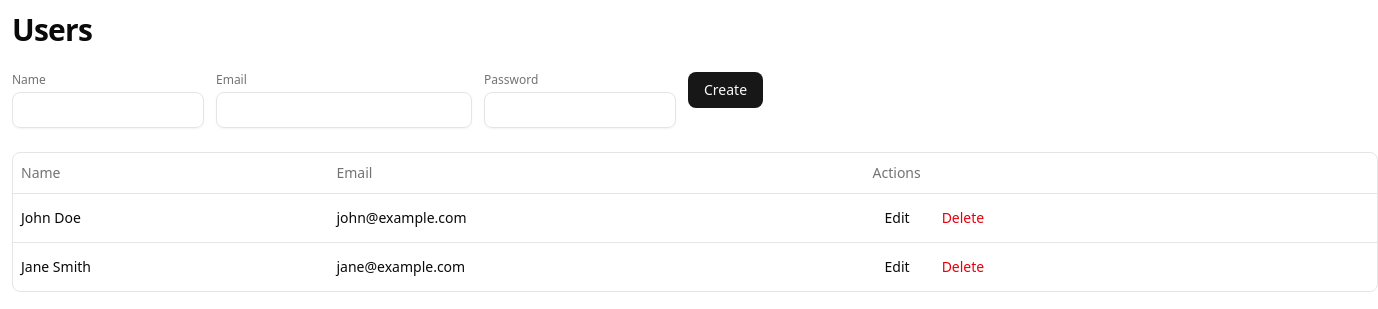
UsersPage › cancels edit mode
The image size is (1378, 309).
Check: the text "John Doe" is shown, box [13, 193, 328, 242]
Click the button "Edit" in the row of "John Doe" at (897, 218), box [873, 202, 922, 234]
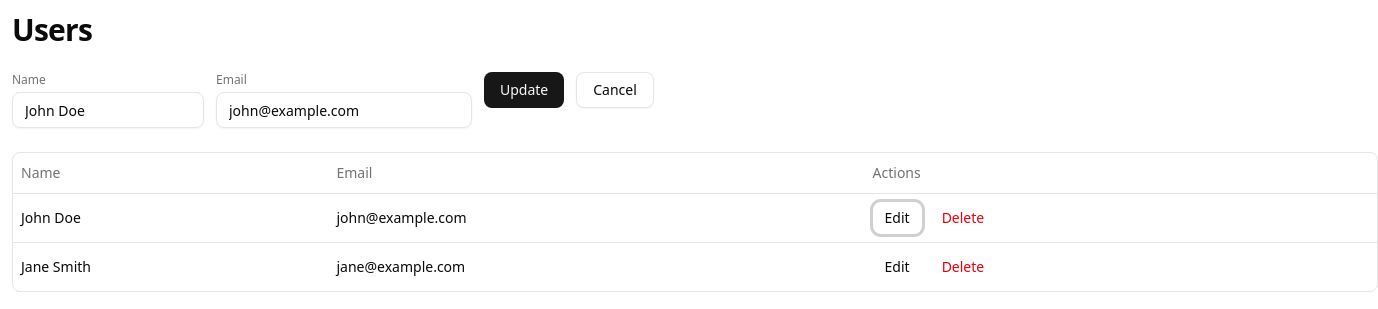
Check: the button "Cancel" is shown
Click the button "Cancel" at (615, 90), box [576, 72, 654, 108]
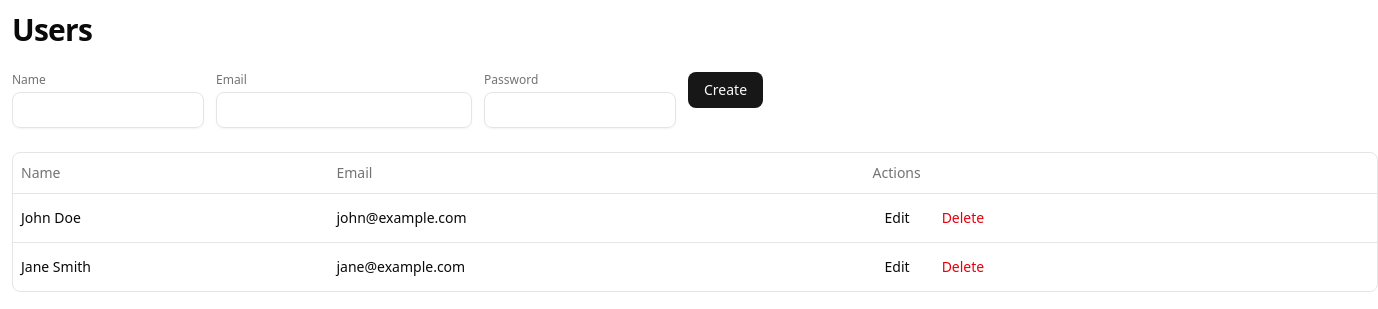
Check: the field labelled "Name" is empty, box [12, 92, 204, 128]
Check: the button "Create" is shown, box [688, 72, 763, 108]
